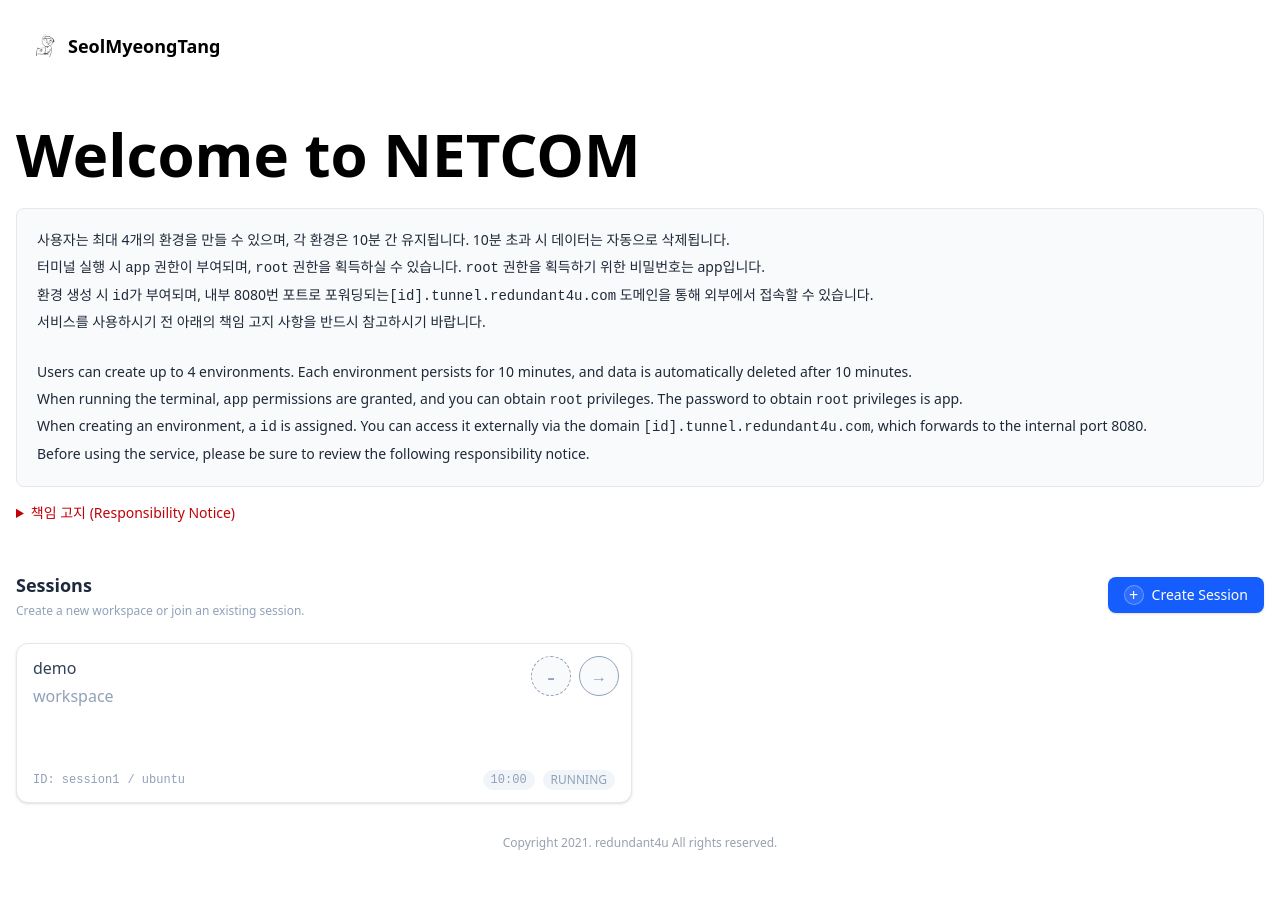
Test: shows delete failures and keeps existing resources
Expected: the text "demo" is shown, [33,657,76,679]
Click the button titled "Delete session" at (551, 676), box [531,656,571,696]
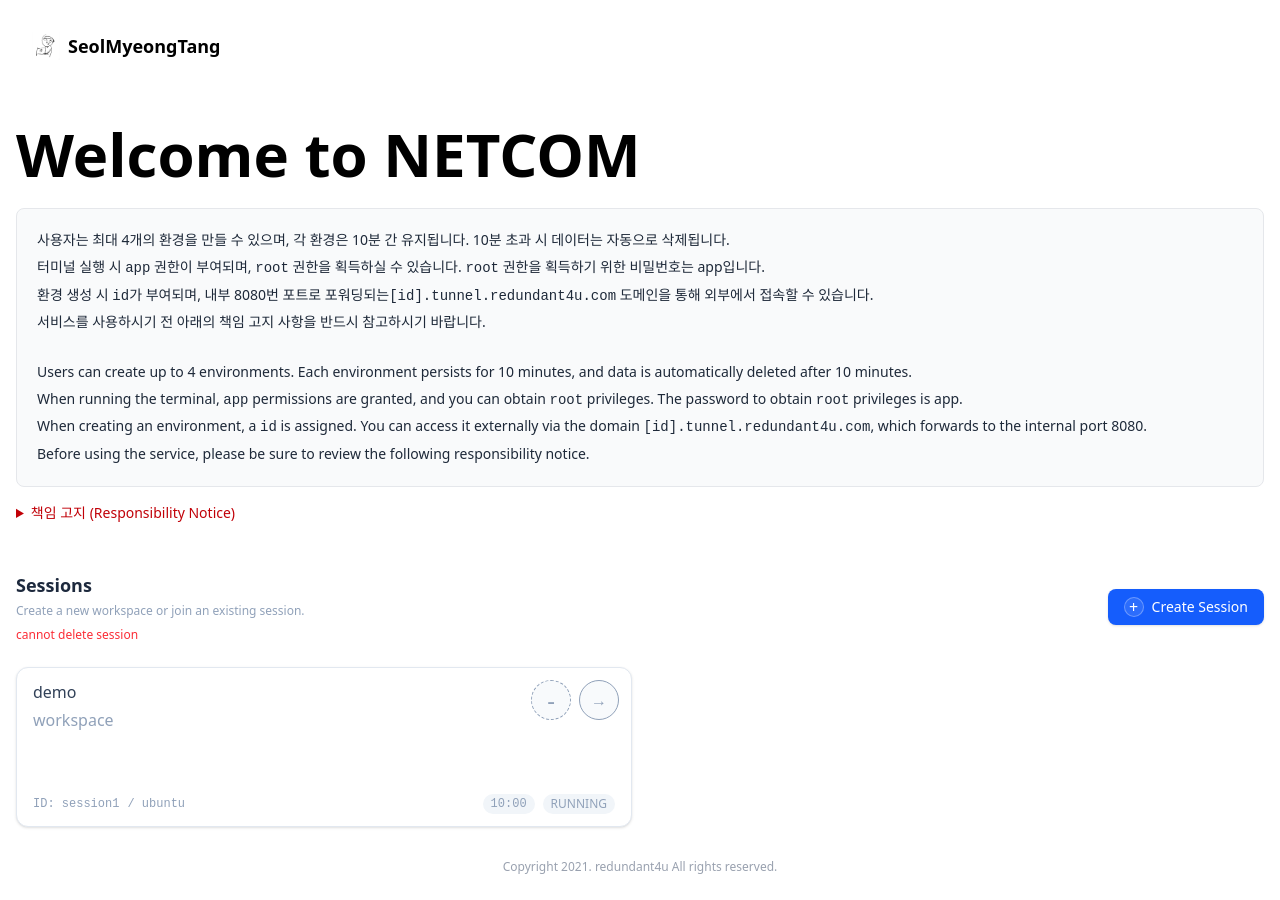
Expected: the text "demo" is shown, [33,681,76,703]
Expected: the text "cannot delete session" is shown, [16,626,138,643]
